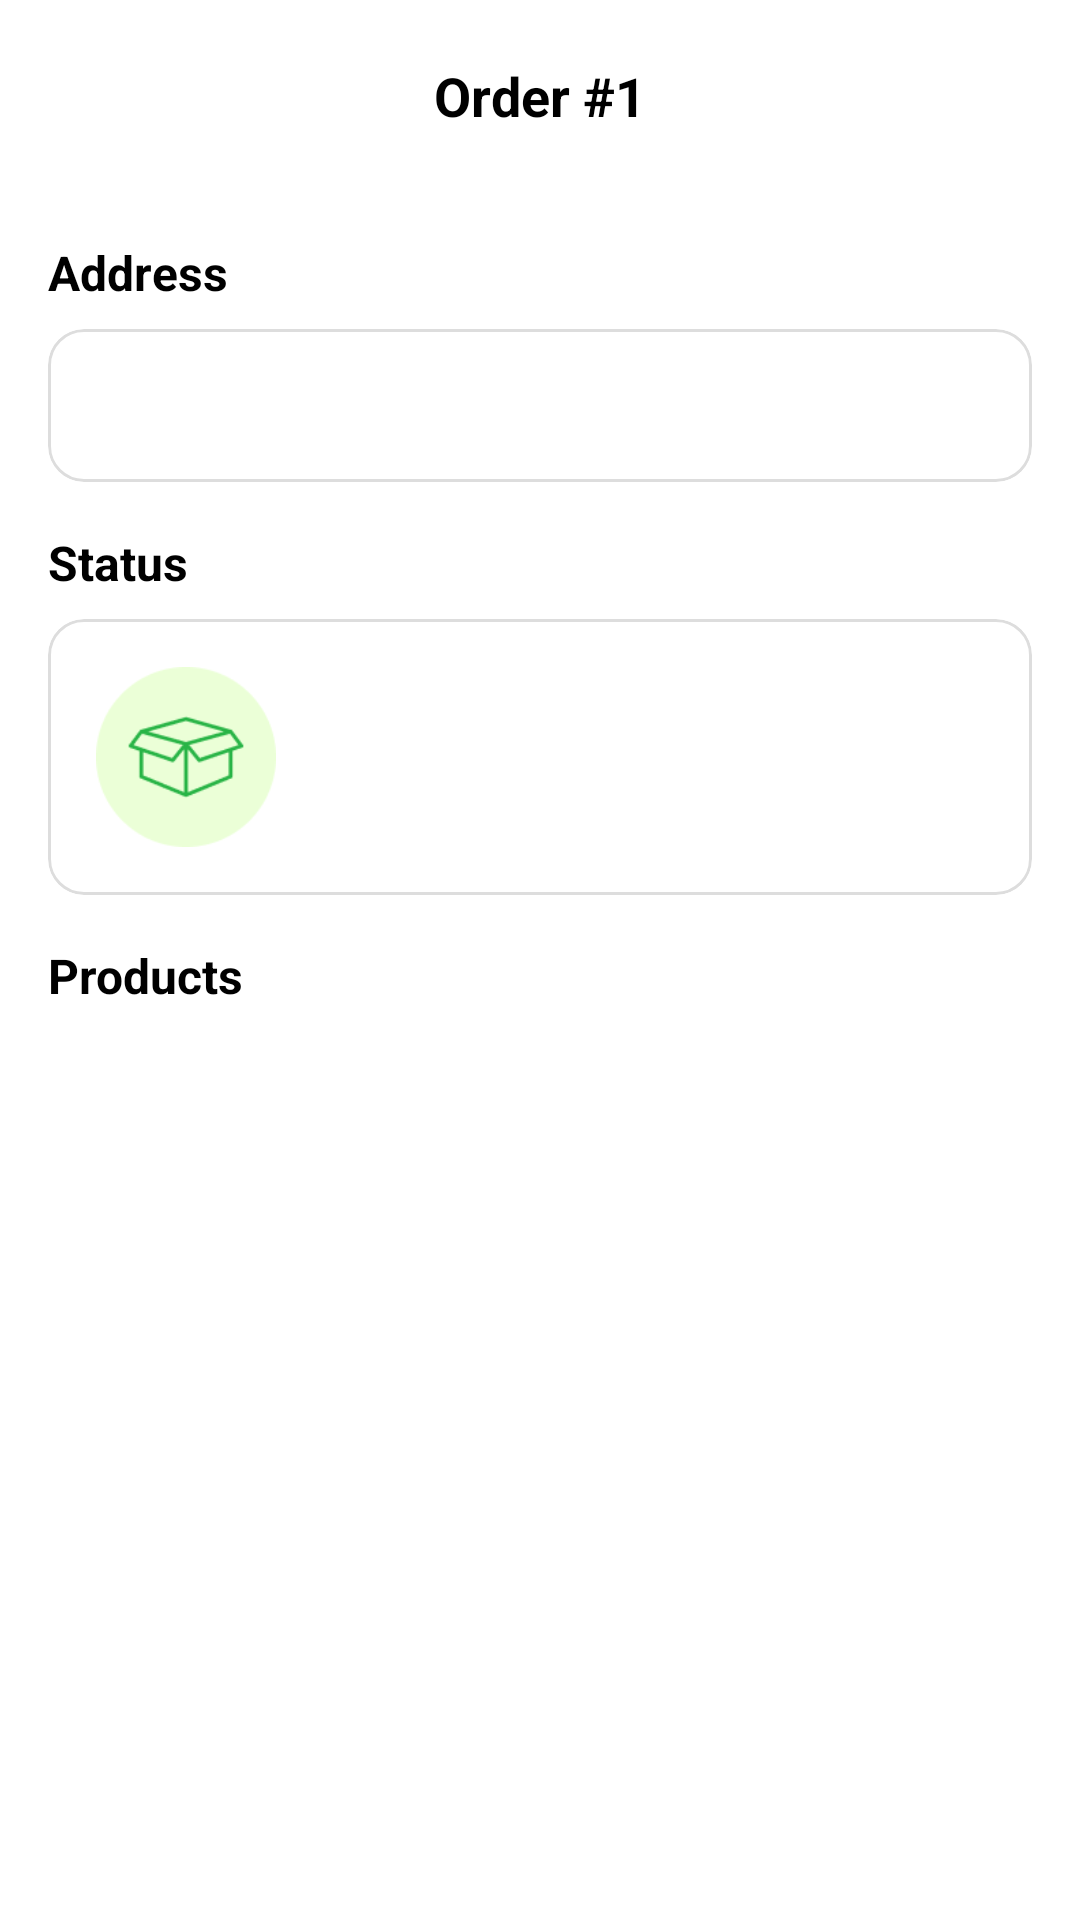

Named icons in this screenshot (1080 x 1920) and their centers, [x,y]:
order: [186,757]
